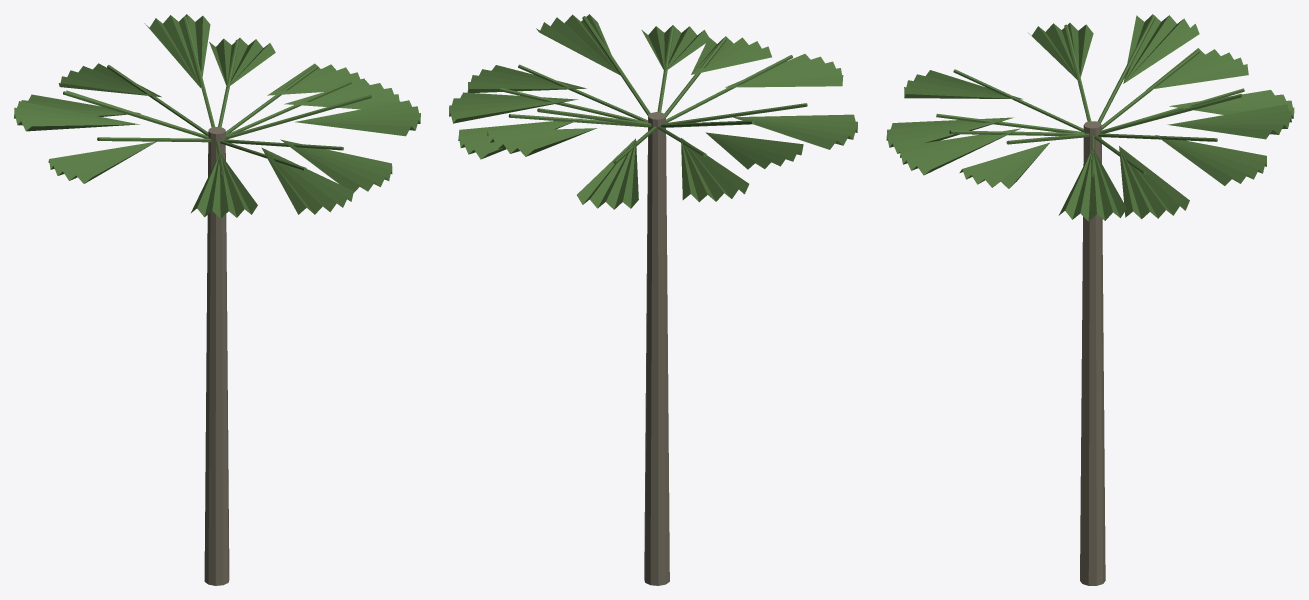
File: thai_borassus.glb
The picture shows the model from 3 angles, left to right: view 1: azimuth 30°, elevation 25°; view 2: azimuth 150°, elevation 25°; view 3: azimuth 270°, elevation 25°; orthographic projection. The views are drawn at different scales.
Parts seen in each view (by area): view 1: thai_borassus; view 2: thai_borassus; view 3: thai_borassus.
Part boxes in pixels (x1,y1,x2,y2): thai_borassus: [14, 14, 420, 585]; thai_borassus: [449, 14, 857, 585]; thai_borassus: [886, 14, 1294, 585].
Bounding box in the file's own units: 7.35 × 10.02 × 7.3.
